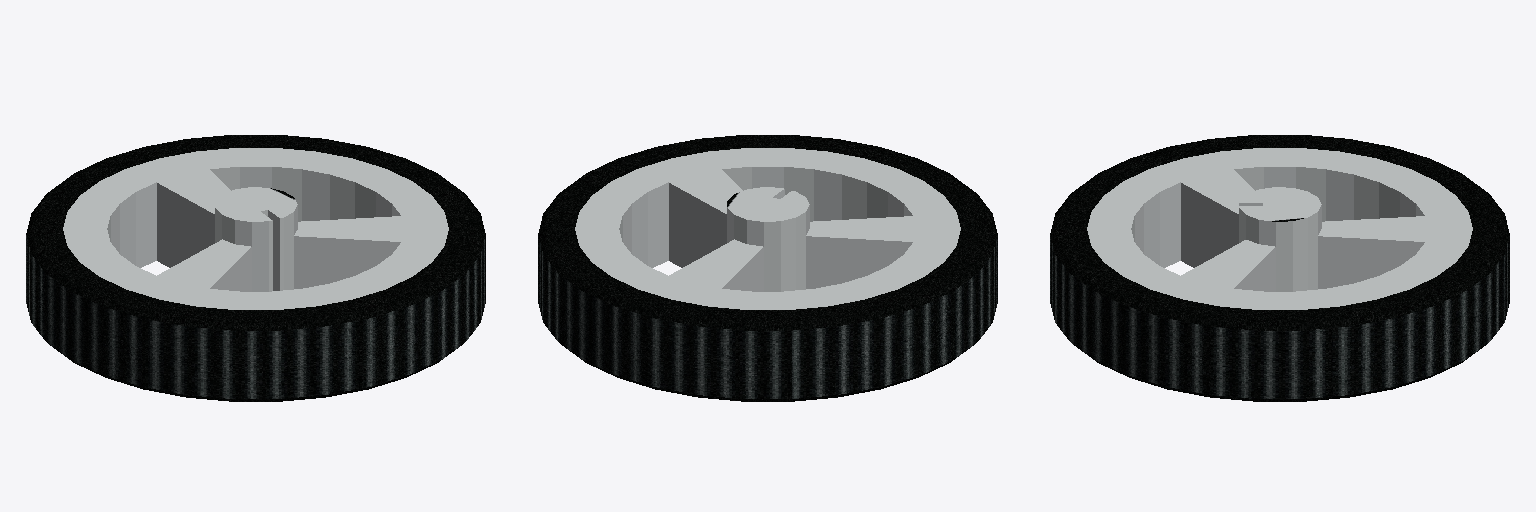
3 renders of one model, left to right at view 1: azimuth 30°, elevation 25°; view 2: azimuth 150°, elevation 25°; view 3: azimuth 270°, elevation 25°, orthographic.
Visible parts, largest first — view 1: wheel; view 2: wheel; view 3: wheel.
Part boxes in pixels (x1,y1,x2,y2): wheel: (26,135,485,401); wheel: (538,135,997,401); wheel: (1050,135,1509,401).
Size of the model in its own units: 0.0338 by 0.0084 by 0.034.
1 materials, 1 textured.